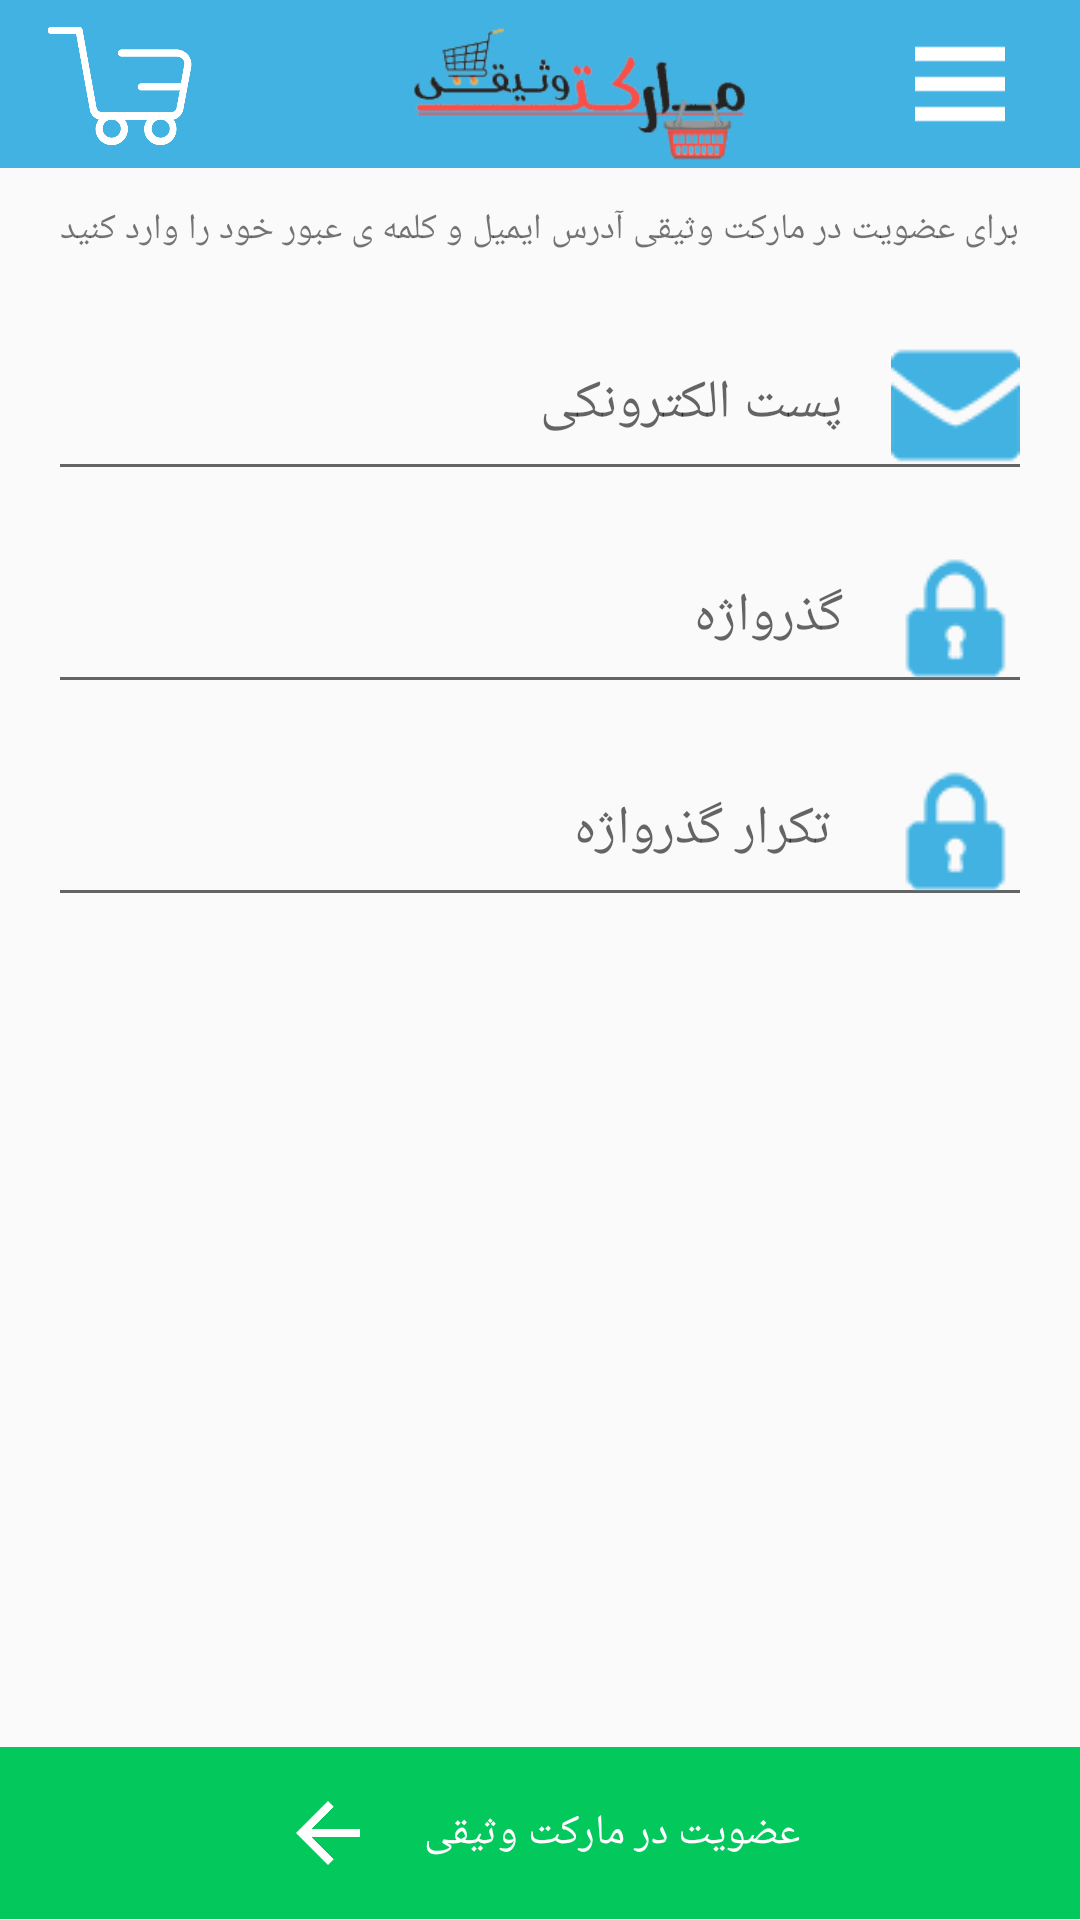

Screen size 1080px×1920px. Icon name, then its center in pixels as (x=x, y=y):
basket: (x=120, y=86)
menu: (x=960, y=84)
